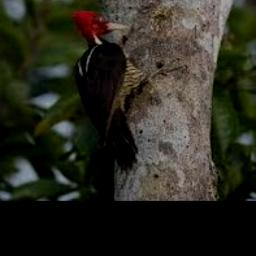Woodpecker: (71, 9, 183, 171)
